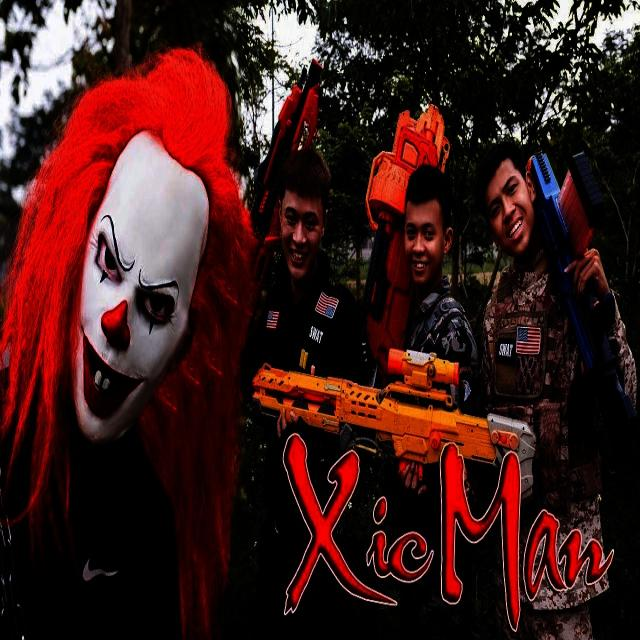Nerf gun: (248, 344, 545, 515), (515, 140, 639, 470), (348, 99, 451, 385), (238, 52, 332, 324)
